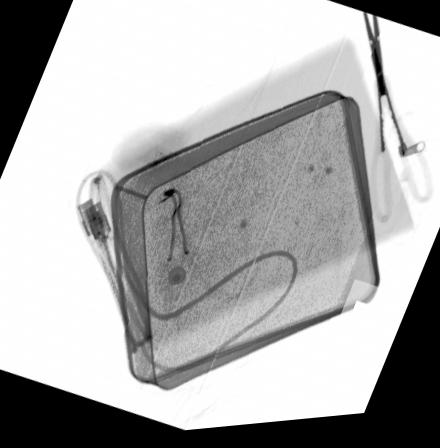Scissors: (366, 23, 433, 233)
